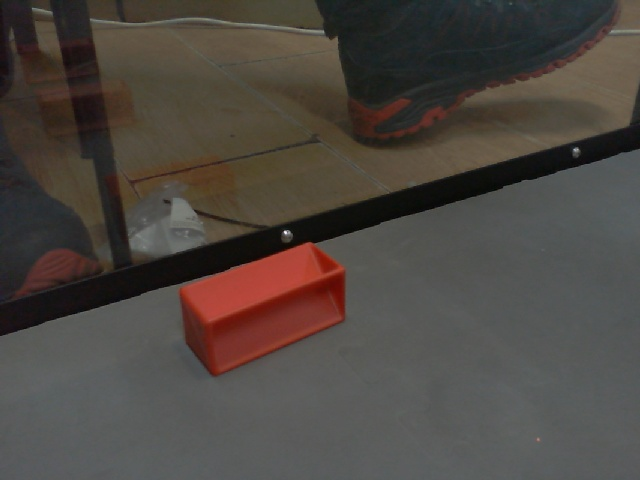RedSample: (174, 236, 347, 379)
